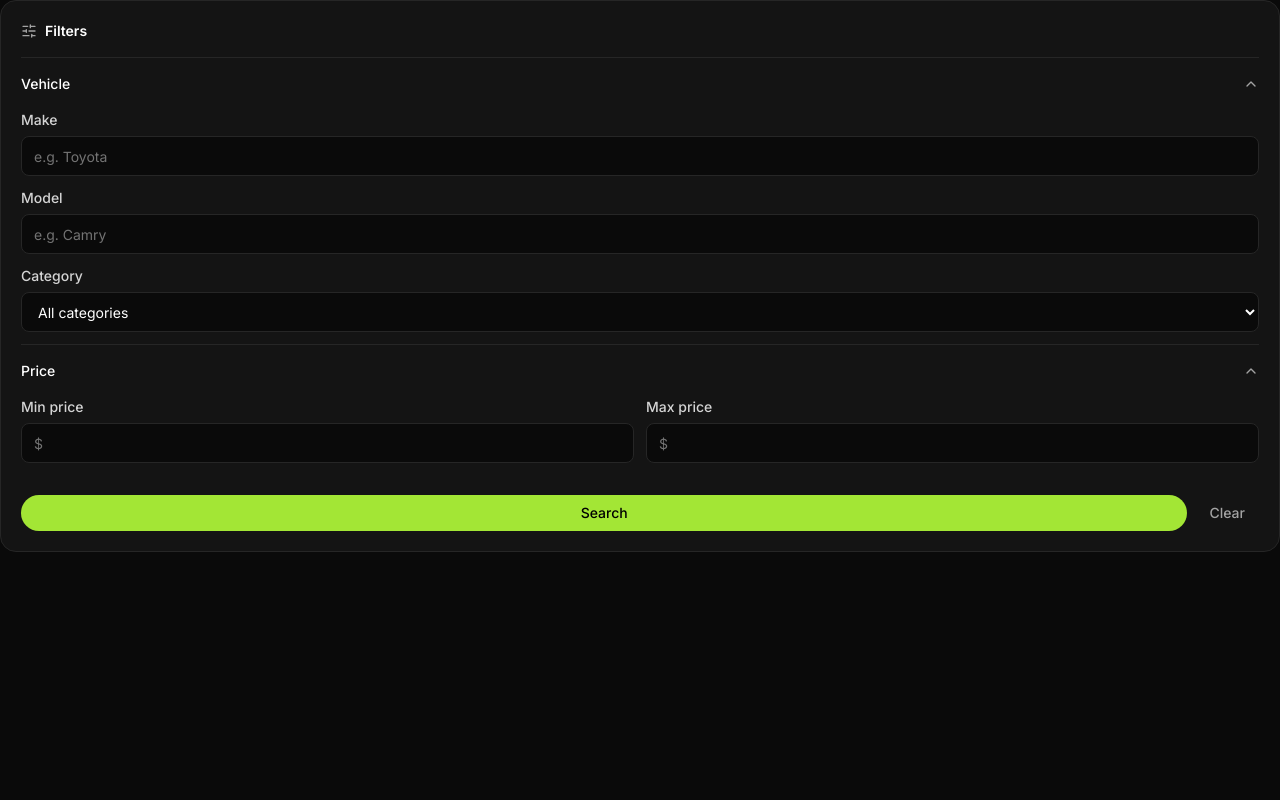
clear empties every field and notifies the parent
The image size is (1280, 800).
In the field labelled "Make": (640, 156) [21,136,1259,176], type "Toyota"
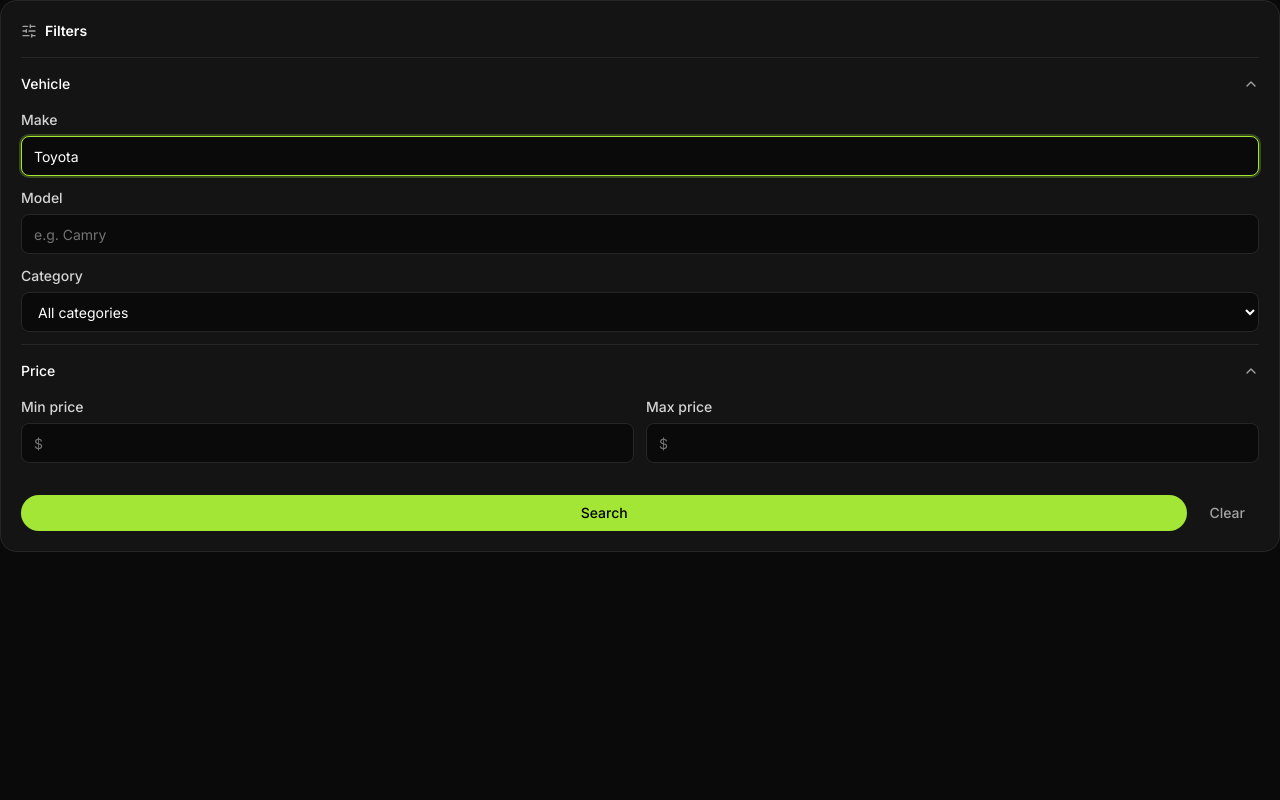
In the number field labelled "Min price": (328, 443) [21,423,634,463], type "1000"
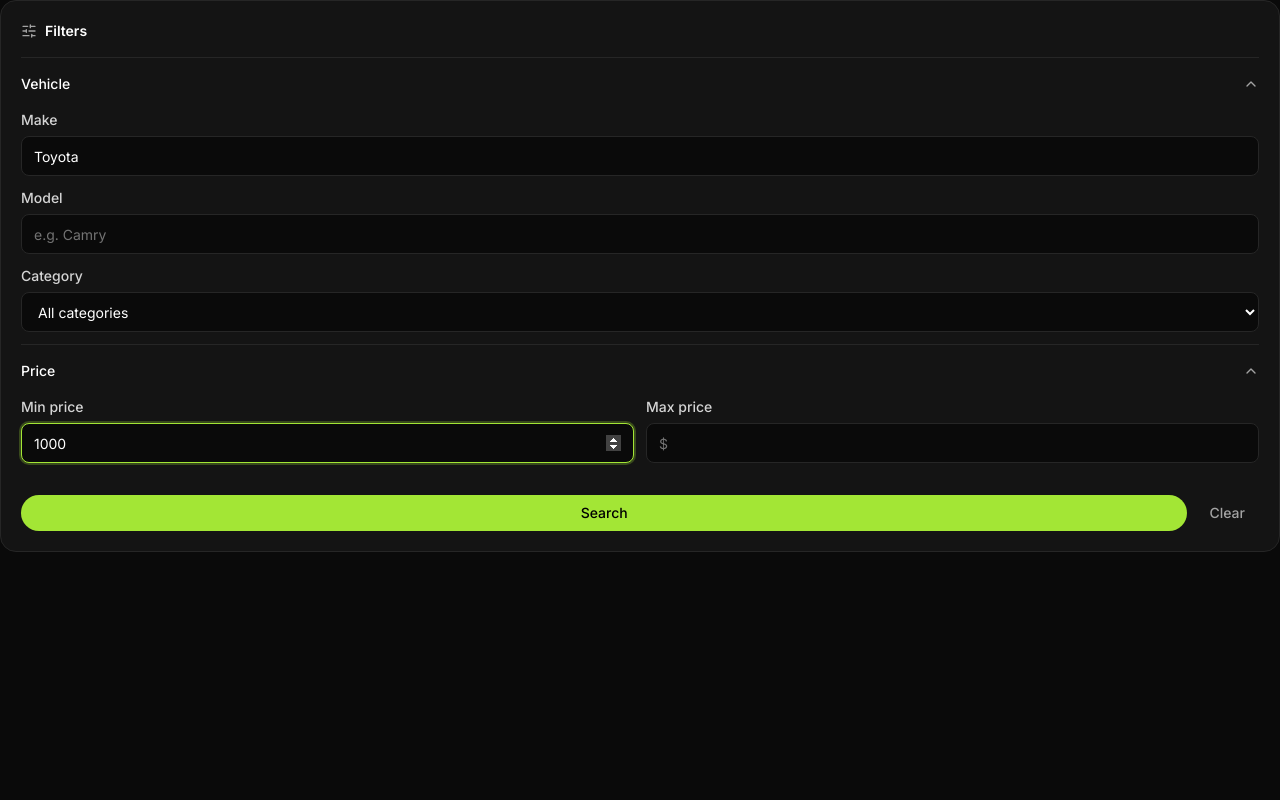
Click the button "Clear": click(1227, 513) [1196,495,1259,531]
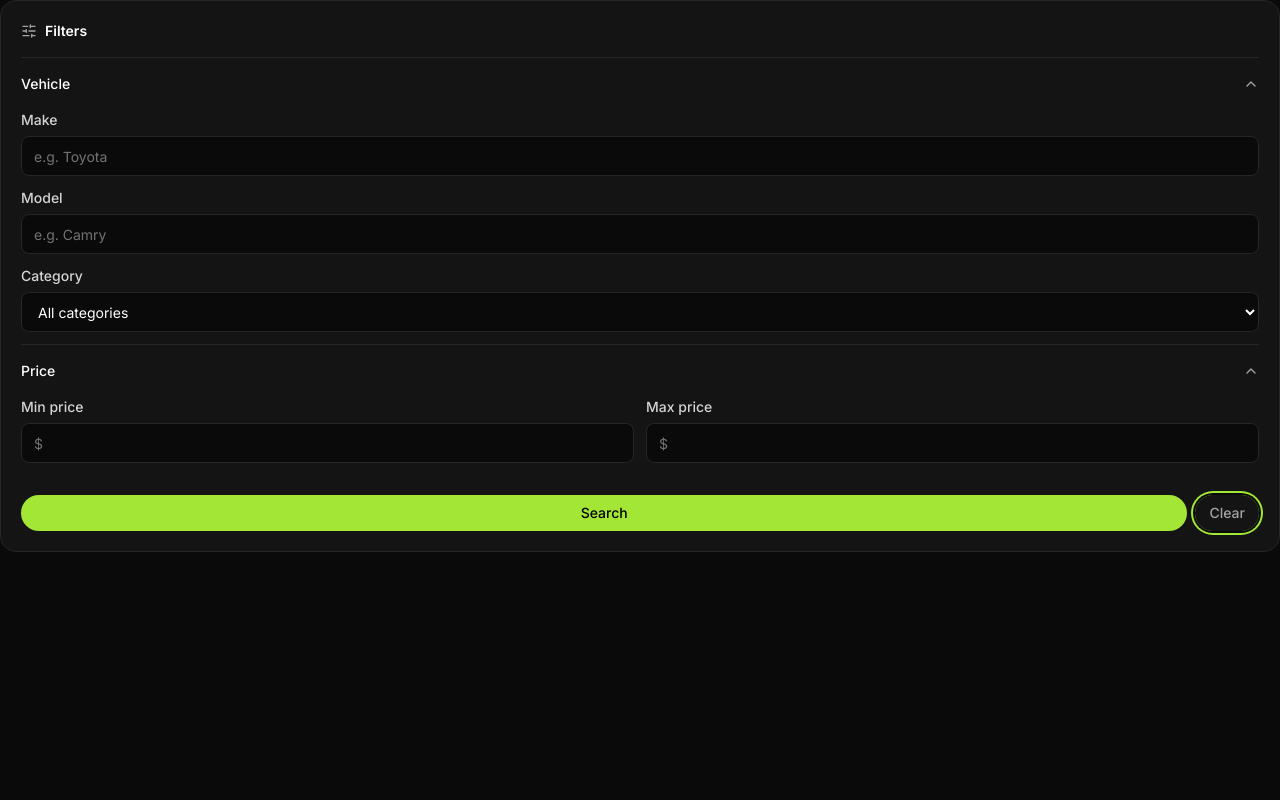
Expected: the field labelled "Make" is empty, [21,136,1259,176]
Expected: the number field labelled "Min price" is not empty, [21,423,634,463]
